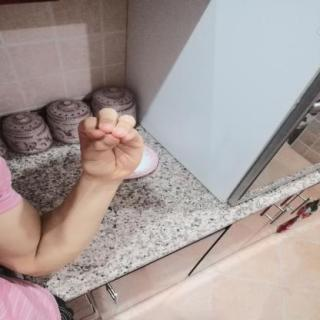HA: (68, 99, 153, 186)
